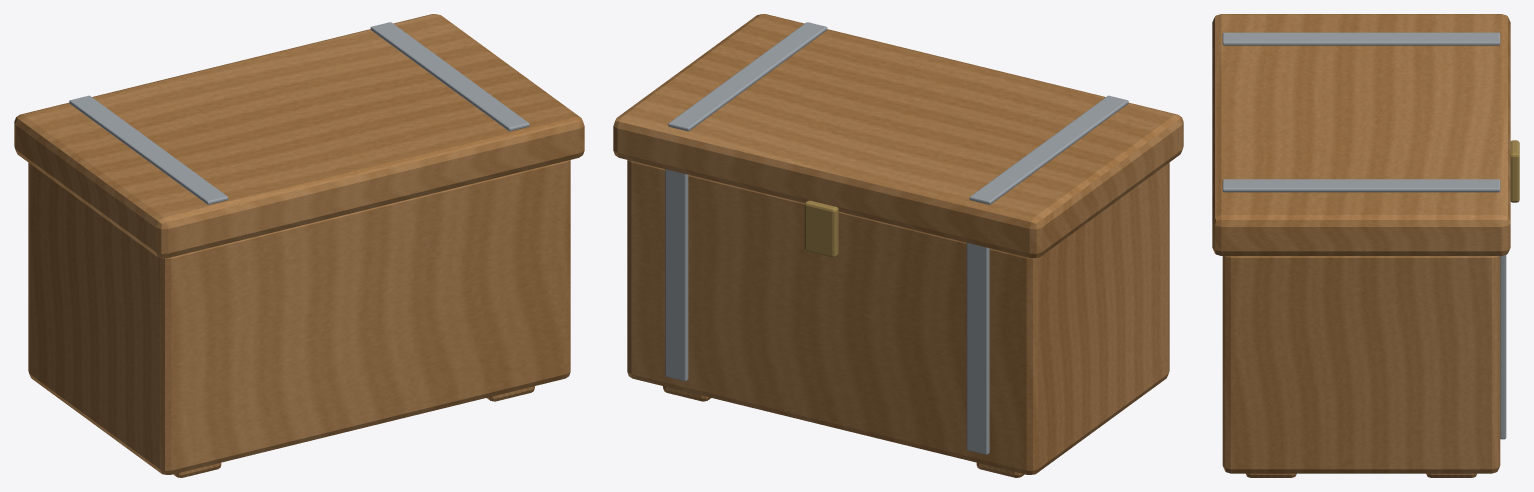
Rendered from storage_chest.glb.
3 views of the same model, side by side, from view 1: azimuth 30°, elevation 25°; view 2: azimuth 150°, elevation 25°; view 3: azimuth 270°, elevation 25° (orthographic).
Parts seen in each view (by area): view 1: SM_ChestBody, SM_ChestLid, SM_LidStrap.001, SM_LidStrap; view 2: SM_ChestBody, SM_ChestLid, SM_FrontStrap, SM_FrontStrap.001, SM_LidStrap.001, SM_LidStrap, SM_Latch; view 3: SM_ChestLid, SM_ChestBody, SM_LidStrap, SM_LidStrap.001, SM_FrontStrap.001, SM_Latch.
Part boxes in pixels (x1,y1,x2,y2): SM_ChestBody: (28, 160, 570, 474); SM_ChestLid: (14, 14, 584, 258); SM_LidStrap.001: (370, 22, 529, 131); SM_LidStrap: (69, 95, 228, 204); SM_ChestBody: (627, 160, 1169, 474); SM_ChestLid: (613, 14, 1183, 258); SM_FrontStrap: (966, 243, 989, 454); SM_FrontStrap.001: (665, 169, 688, 381); SM_LidStrap.001: (668, 22, 827, 131); SM_LidStrap: (969, 95, 1128, 204); SM_Latch: (804, 200, 838, 257); SM_ChestLid: (1212, 14, 1510, 255); SM_ChestBody: (1222, 256, 1500, 473); SM_LidStrap: (1222, 32, 1500, 45); SM_LidStrap.001: (1222, 179, 1500, 192); SM_FrontStrap.001: (1500, 255, 1506, 439); SM_Latch: (1510, 140, 1519, 202).
Bounding box in the file's own units: 0.71 × 0.449 × 0.443.
3 materials, 1 textured.
